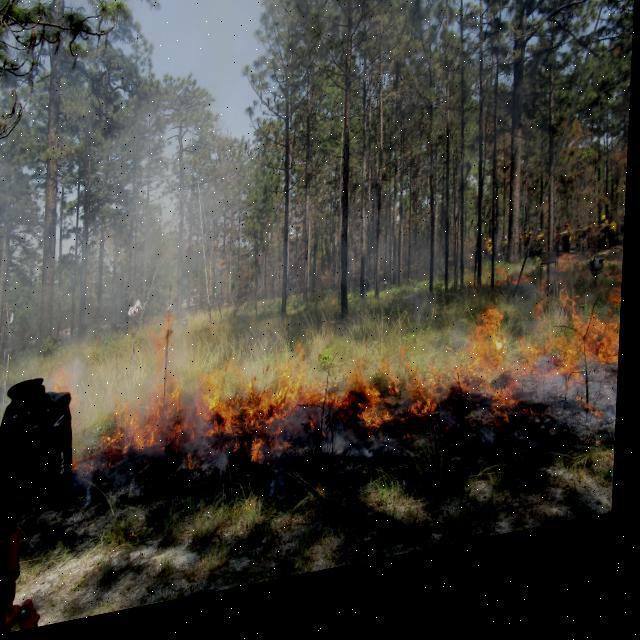Fire: (115, 293, 622, 495)
